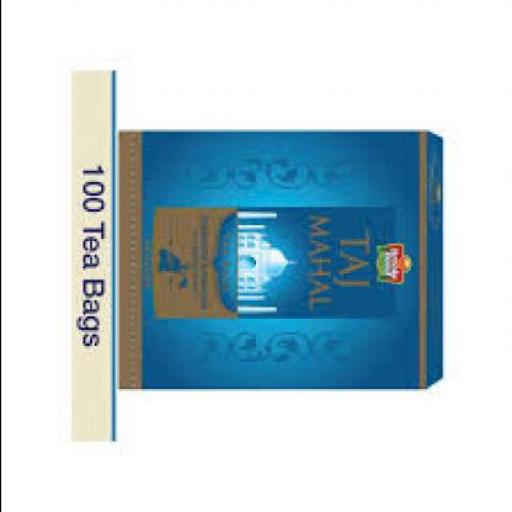cardboard: (120, 127, 446, 387)
